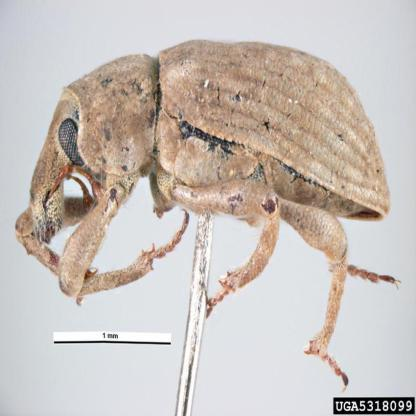rice-bug: (17, 38, 394, 302)
